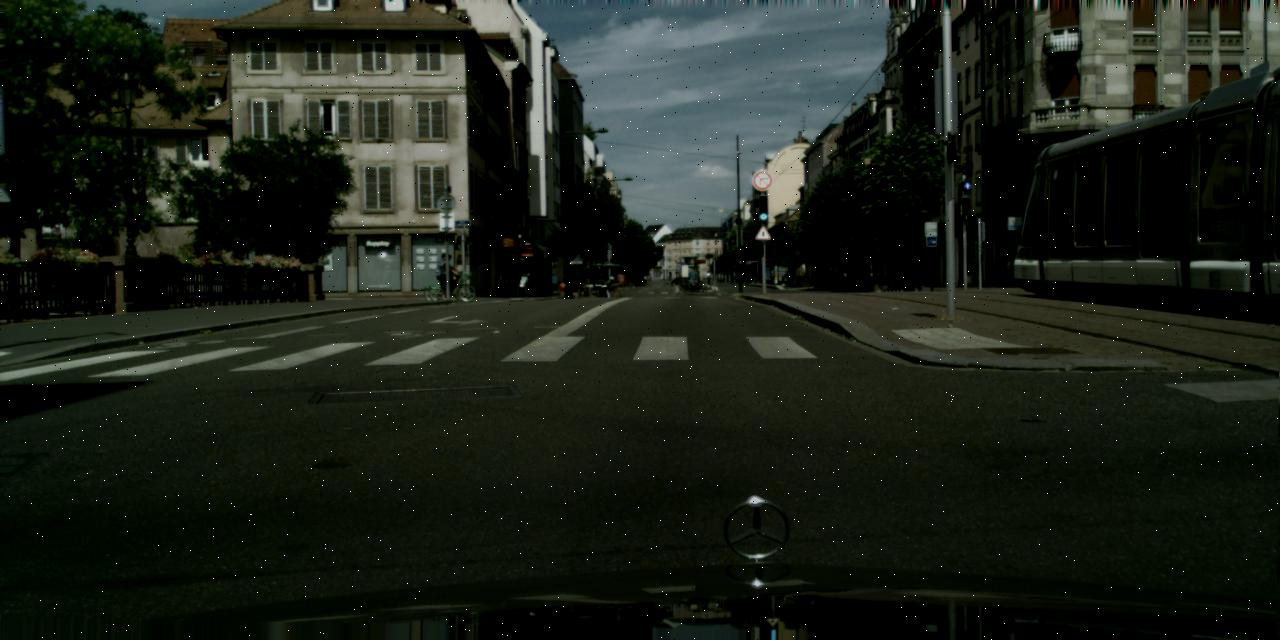ped: (440, 253, 456, 294), (435, 253, 451, 293), (506, 264, 520, 297)
